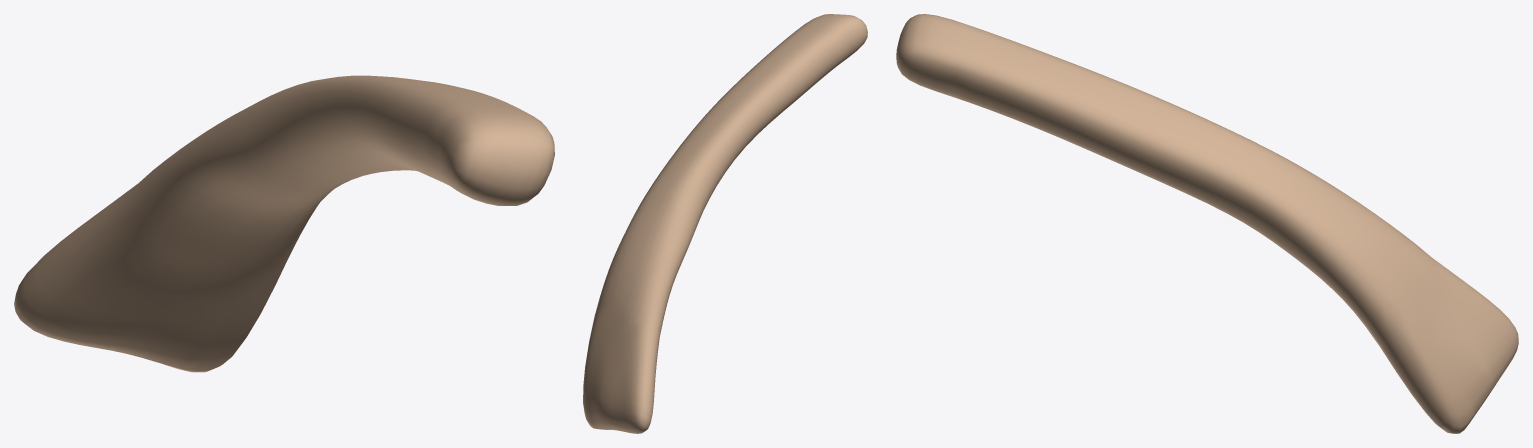
3 views of the same model, side by side, from view 1: azimuth 30°, elevation 25°; view 2: azimuth 150°, elevation 25°; view 3: azimuth 270°, elevation 25° (orthographic). The views are drawn at different scales.
Parts seen in each view (by area): view 1: 右侧趾长伸肌腱鞘; view 2: 右侧趾长伸肌腱鞘; view 3: 右侧趾长伸肌腱鞘.
Boxes of the visible parts, x1,y1,x2,y2 form: 右侧趾长伸肌腱鞘: (14, 75, 554, 372); 右侧趾长伸肌腱鞘: (583, 14, 867, 433); 右侧趾长伸肌腱鞘: (896, 14, 1518, 433).
Bounding box in the file's own units: 0.0246 × 0.0684 × 0.1017.
